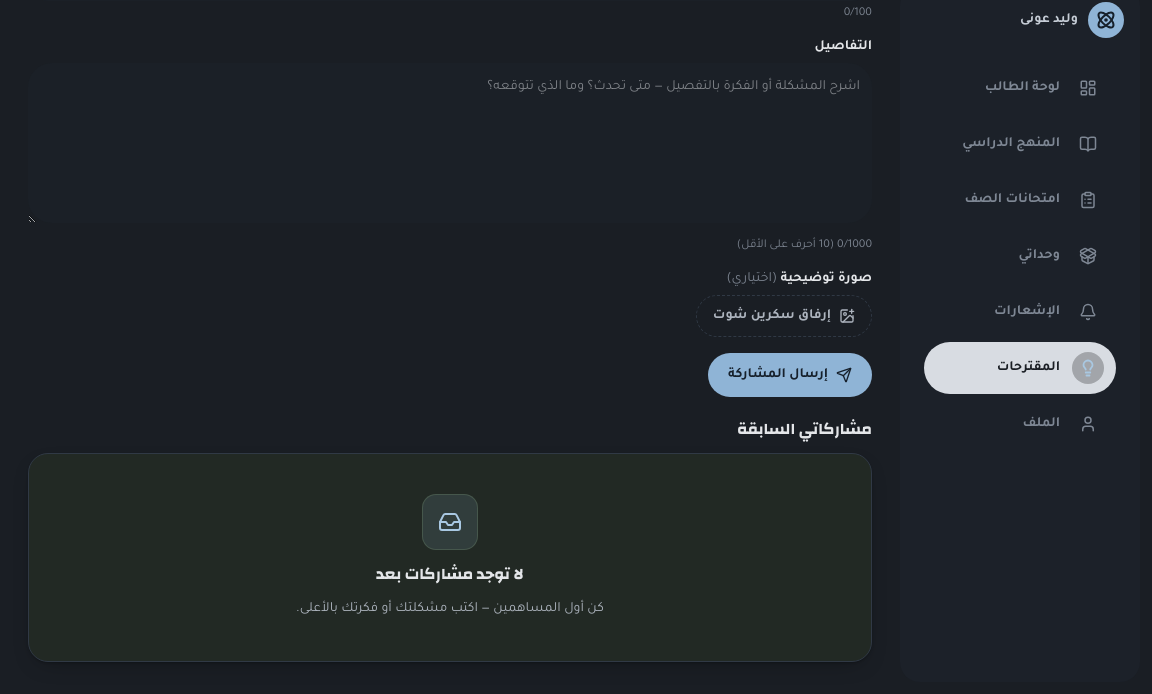
Test: StudentSuggestionsPage › validates title and body before submitting
The image size is (1152, 694).
(page scrolled)
Click the button with test id "suggestion-submit": (790, 375) [708,353,872,397]
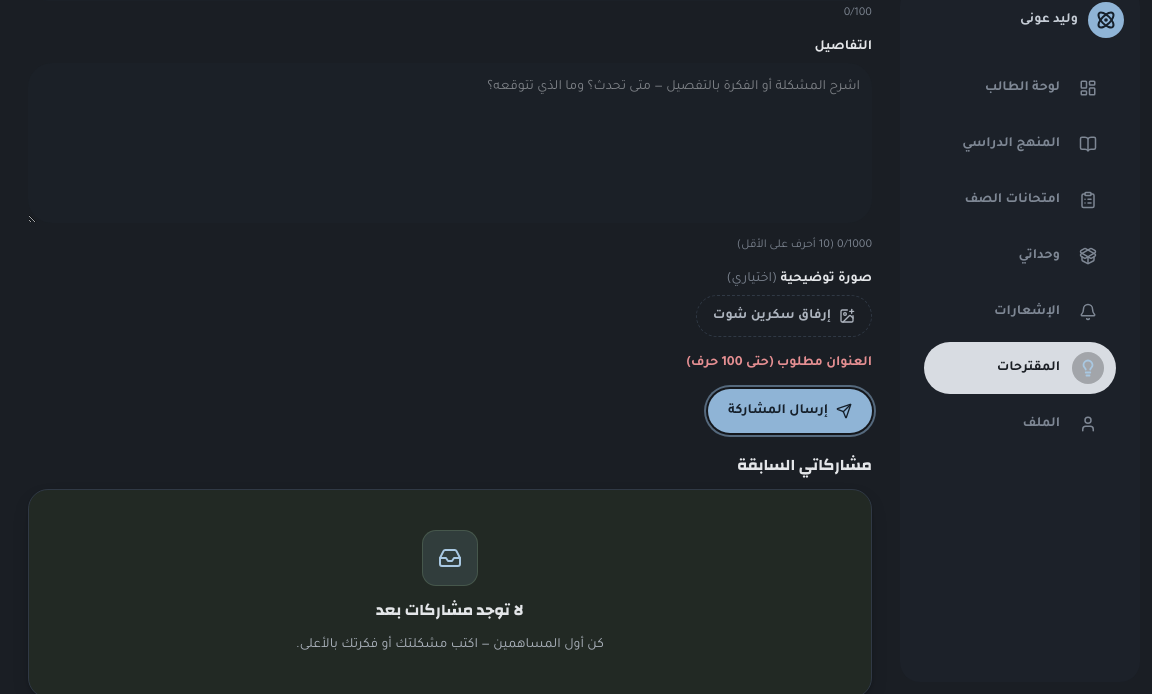
Expected: the message with test id "suggestion-form-error" shows "العنوان", [686,356,872,370]
